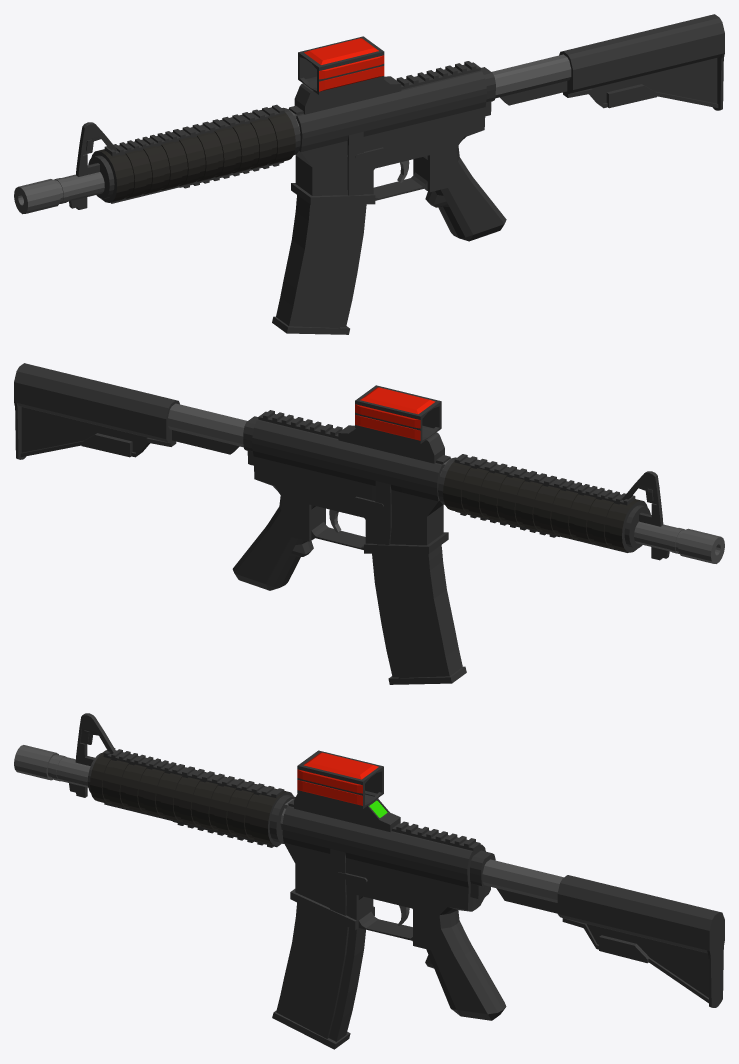
3 views of the same model, one above another, from view 1: azimuth 30°, elevation 25°; view 2: azimuth 150°, elevation 25°; view 3: azimuth 330°, elevation 25° (orthographic).
Parts seen in each view (by area): view 1: Cube, Cube.002, Cube.004, Cylinder, Cube.005, Cylinder.001, Cube.001; view 2: Cube, Cube.002, Cylinder, Cube.004, Cube.005, Cylinder.001, Cube.001; view 3: Cube, Cube.002, Cylinder, Cube.004, Cube.005, Cylinder.001, Cube.001.
Part boxes in pixels (x1,y1,x2,y2): Cube: [288, 61, 506, 241]; Cube.002: [492, 14, 724, 110]; Cube.004: [272, 195, 366, 334]; Cylinder: [88, 107, 300, 202]; Cube.005: [294, 36, 401, 114]; Cylinder.001: [14, 122, 116, 214]; Cube.001: [104, 104, 300, 203]; Cube: [232, 410, 451, 590]; Cube.002: [14, 363, 247, 459]; Cylinder: [438, 457, 650, 552]; Cube.004: [372, 545, 466, 684]; Cube.005: [338, 385, 444, 463]; Cylinder.001: [622, 471, 724, 563]; Cube.001: [440, 454, 635, 552]; Cube: [282, 799, 506, 1020]; Cube.002: [482, 859, 724, 1007]; Cylinder: [87, 750, 295, 845]; Cube.004: [272, 902, 365, 1049]; Cube.005: [294, 750, 400, 831]; Cylinder.001: [14, 713, 115, 797]; Cube.001: [103, 748, 293, 847].
Bounding box in the file's own units: 467 × 180 × 32.72.
